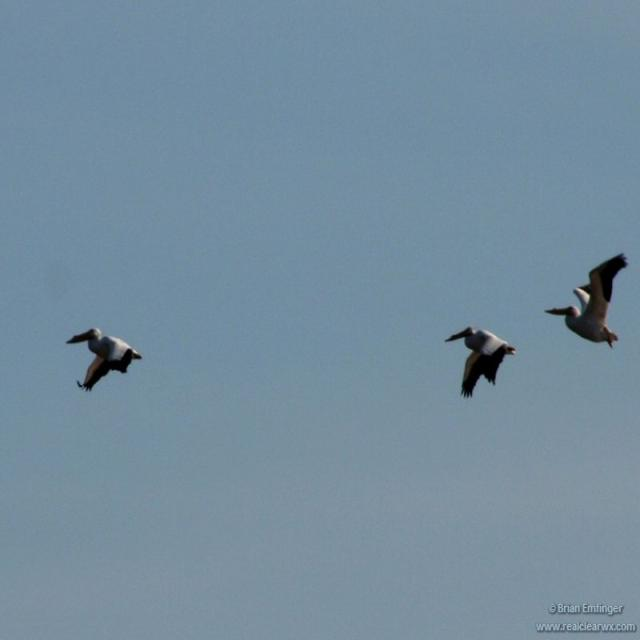bird: (542, 258, 637, 348), (62, 328, 147, 396), (446, 331, 520, 400)
